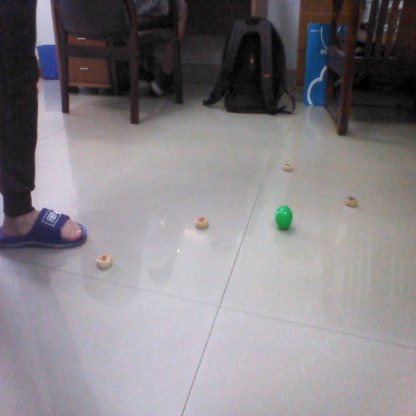ball: (274, 204, 296, 230)
chess: (94, 252, 114, 271), (194, 212, 211, 229), (341, 194, 360, 209), (281, 160, 295, 171)
